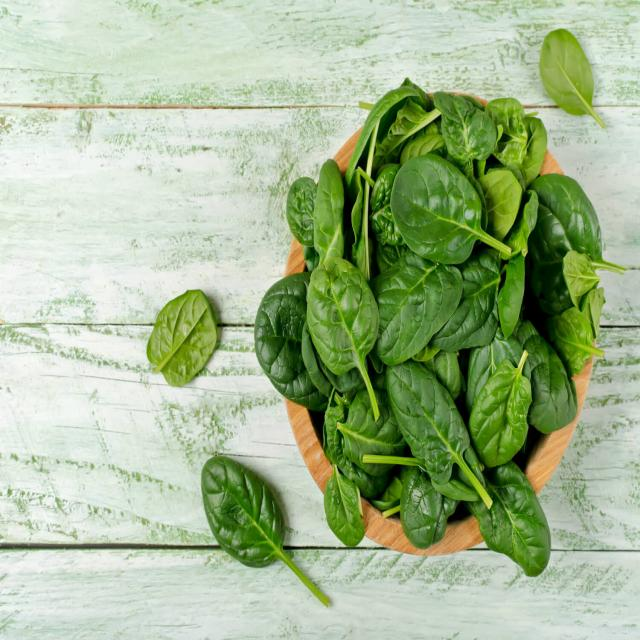spinach: (195, 450, 288, 574), (390, 154, 481, 260), (144, 285, 222, 389), (306, 256, 376, 368), (401, 366, 467, 479), (251, 271, 305, 403), (494, 477, 554, 580), (538, 26, 596, 118), (380, 266, 432, 360), (472, 392, 529, 464), (533, 347, 577, 437), (437, 92, 494, 153), (320, 475, 364, 550), (462, 261, 496, 348), (486, 170, 522, 236), (284, 174, 312, 243)
